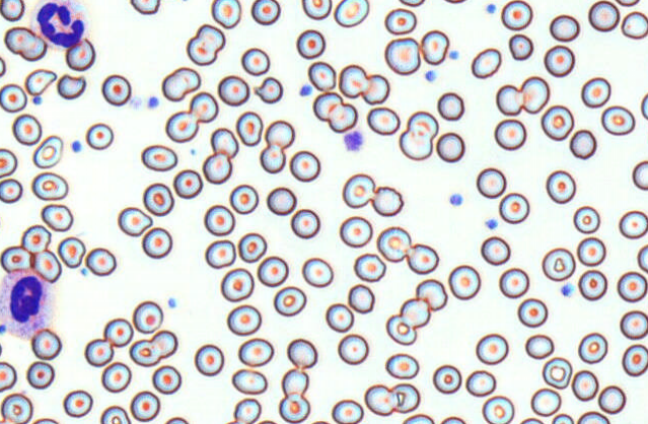GRAN: (0, 264, 53, 341), (29, 0, 92, 52)
PLT: (343, 129, 366, 154), (298, 83, 313, 98), (484, 2, 498, 18), (423, 69, 438, 83), (559, 283, 573, 297), (146, 97, 160, 110), (449, 194, 462, 208), (71, 139, 83, 154), (485, 218, 500, 230), (32, 94, 44, 106), (168, 296, 179, 309), (448, 49, 459, 60), (0, 324, 6, 336)
RBC: (186, 23, 225, 65), (4, 26, 47, 61), (384, 37, 420, 75), (376, 226, 411, 262), (540, 104, 574, 140), (220, 267, 254, 302), (541, 247, 575, 281), (342, 173, 375, 208), (448, 264, 480, 300), (520, 76, 550, 113), (142, 182, 174, 216), (226, 304, 261, 335), (31, 171, 68, 200), (165, 110, 198, 142), (415, 278, 447, 311), (406, 242, 439, 274), (339, 215, 372, 247), (475, 333, 508, 365), (543, 44, 575, 77), (32, 134, 63, 168), (545, 169, 576, 203), (117, 206, 152, 236), (238, 337, 273, 367), (420, 29, 449, 65), (494, 118, 526, 150), (203, 204, 235, 236), (217, 74, 249, 106), (0, 392, 33, 423), (132, 300, 163, 333), (273, 285, 306, 316), (338, 64, 368, 98), (65, 37, 95, 71), (601, 105, 635, 135), (235, 110, 263, 146), (364, 384, 395, 416), (371, 185, 403, 216), (30, 328, 61, 360), (289, 150, 320, 182), (141, 226, 172, 258), (257, 255, 288, 287), (580, 76, 611, 108), (498, 192, 529, 224), (542, 356, 572, 389), (353, 252, 386, 282), (194, 343, 224, 376), (101, 73, 131, 106), (366, 106, 400, 135), (333, 0, 369, 27), (141, 144, 177, 171), (399, 297, 430, 328), (385, 314, 416, 345), (286, 338, 317, 369), (337, 333, 368, 364), (588, 0, 619, 31), (498, 267, 529, 298), (172, 168, 203, 199), (202, 152, 232, 184), (500, 0, 532, 30), (301, 257, 333, 287), (577, 332, 607, 364), (12, 113, 42, 145), (231, 368, 267, 394), (312, 91, 343, 121), (390, 382, 420, 413), (264, 119, 295, 149), (130, 390, 160, 421), (101, 361, 131, 392), (435, 131, 465, 162), (476, 167, 506, 198), (617, 271, 647, 302), (471, 47, 501, 78), (406, 110, 438, 139), (278, 394, 310, 423), (204, 239, 236, 268), (33, 249, 61, 282), (481, 395, 514, 423), (40, 203, 73, 231), (385, 352, 419, 379), (327, 102, 357, 132), (103, 317, 133, 347), (517, 297, 547, 327), (290, 208, 320, 238), (237, 232, 267, 262), (480, 235, 510, 265), (576, 236, 606, 266), (189, 91, 218, 122), (361, 73, 390, 104), (530, 387, 561, 416), (307, 60, 336, 91), (85, 247, 116, 276), (229, 183, 258, 214), (578, 269, 607, 300), (129, 338, 161, 366), (57, 236, 85, 268), (571, 369, 599, 401), (384, 7, 416, 35), (21, 224, 51, 253), (325, 302, 354, 332), (432, 364, 461, 394), (266, 186, 296, 215), (296, 29, 325, 59), (0, 245, 31, 273), (210, 127, 238, 158), (210, 0, 241, 28), (62, 389, 93, 417), (152, 365, 181, 394), (618, 210, 647, 239), (598, 384, 626, 414), (495, 84, 522, 115), (465, 369, 496, 396), (549, 14, 580, 41), (569, 128, 596, 159), (621, 344, 647, 376), (84, 338, 113, 366), (26, 360, 54, 389), (241, 47, 270, 75), (619, 310, 647, 339), (436, 91, 464, 120), (347, 283, 374, 313), (85, 122, 113, 150), (150, 329, 177, 358), (281, 368, 308, 397), (259, 144, 286, 173), (0, 83, 27, 112), (524, 333, 554, 359), (331, 399, 363, 423), (573, 205, 600, 233), (250, 0, 280, 25), (233, 397, 261, 423), (621, 11, 647, 39), (301, 0, 332, 20), (0, 177, 22, 203), (100, 405, 131, 423), (0, 361, 17, 392), (0, 0, 25, 21), (0, 148, 17, 177), (632, 160, 647, 190), (130, 0, 160, 14), (577, 410, 609, 423), (402, 413, 434, 423), (637, 244, 647, 272), (551, 413, 574, 423), (440, 415, 465, 423), (640, 92, 647, 120), (398, 0, 425, 7), (164, 416, 188, 423), (32, 417, 58, 423), (615, 0, 640, 6), (519, 417, 543, 423), (0, 56, 6, 77), (255, 419, 277, 424), (443, 0, 466, 4), (310, 420, 330, 424), (0, 212, 3, 238)
Schistocyte: (254, 75, 283, 105), (26, 69, 56, 96), (56, 74, 87, 100), (160, 74, 188, 101), (508, 33, 532, 63)
